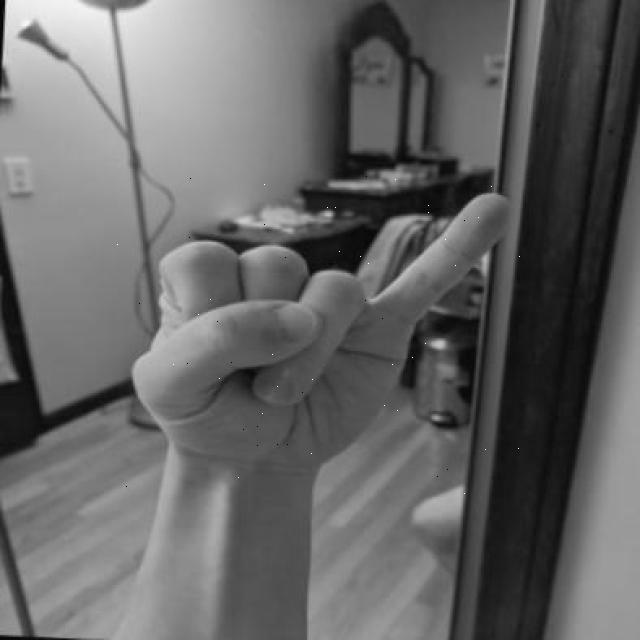I: (116, 163, 524, 496)
